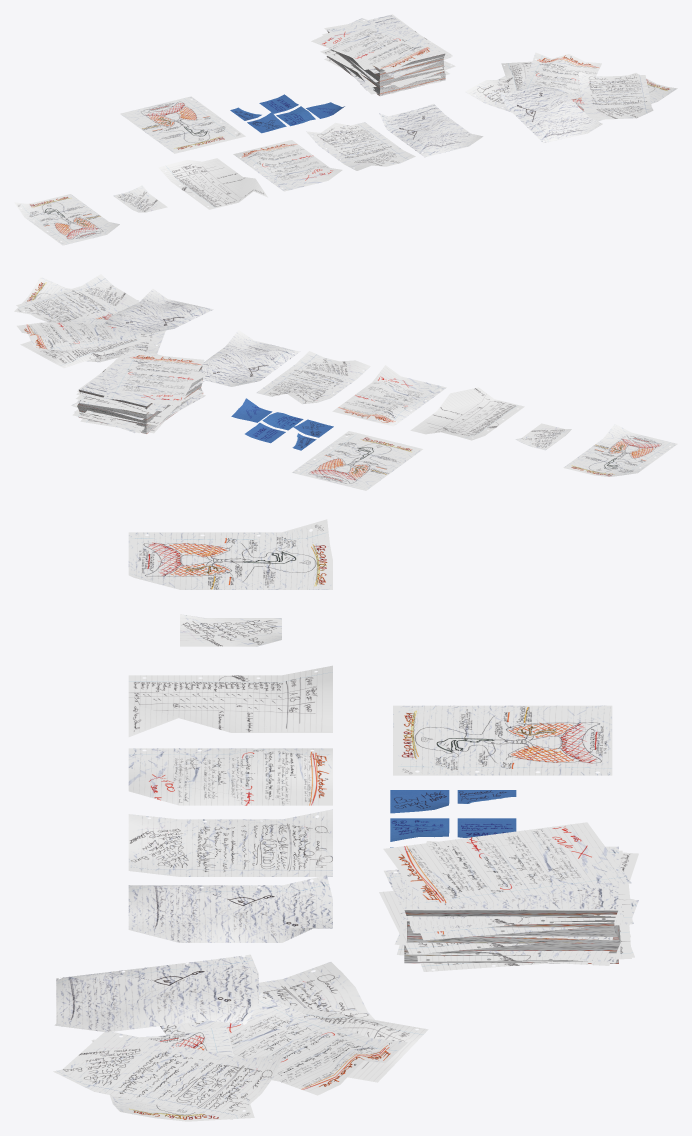
File: Papers.glb
3 views of the same model, one above another, from view 1: azimuth 30°, elevation 25°; view 2: azimuth 150°, elevation 25°; view 3: azimuth 270°, elevation 25° (orthographic). The views are drawn at different scales.
Parts seen in each view (by area): view 1: SM_PapersCluster, SM_PaperStack, SM_FlatPaper, SM_Papers_03, SM_Papers_05, SM_Papers_06, SM_Papers_04, SM_Papers_01, SM_Papers_02, SM_StickyNote_02, SM_StickyNote_03, SM_StickyNote_04 (+1 smaller); view 2: SM_PapersCluster, SM_PaperStack, SM_FlatPaper, SM_Papers_04, SM_Papers_03, SM_Papers_05, SM_Papers_01, SM_Papers_06, SM_Papers_02, SM_StickyNote_05, SM_StickyNote_04, SM_StickyNote_03 (+1 smaller); view 3: SM_PapersCluster, SM_PaperStack, SM_FlatPaper, SM_Papers_05, SM_Papers_01, SM_Papers_03, SM_Papers_04, SM_Papers_06, SM_Papers_02, SM_StickyNote_02, SM_StickyNote_03, SM_StickyNote_04.
Part boxes in pixels (bbox=[...]): SM_PapersCluster: bbox=[465, 52, 677, 143]; SM_PaperStack: bbox=[311, 14, 455, 95]; SM_FlatPaper: bbox=[120, 96, 245, 153]; SM_Papers_03: bbox=[158, 158, 267, 209]; SM_Papers_05: bbox=[306, 122, 415, 170]; SM_Papers_06: bbox=[379, 103, 483, 157]; SM_Papers_04: bbox=[233, 140, 342, 191]; SM_Papers_01: bbox=[14, 194, 119, 245]; SM_Papers_02: bbox=[113, 185, 167, 212]; SM_StickyNote_02: bbox=[247, 112, 286, 133]; SM_StickyNote_03: bbox=[276, 106, 315, 126]; SM_StickyNote_04: bbox=[259, 94, 298, 113]; SM_PapersCluster: bbox=[14, 274, 213, 368]; SM_PaperStack: bbox=[71, 349, 207, 433]; SM_FlatPaper: bbox=[292, 431, 422, 490]; SM_Papers_04: bbox=[332, 365, 446, 426]; SM_Papers_03: bbox=[410, 387, 524, 440]; SM_Papers_05: bbox=[256, 351, 370, 404]; SM_Papers_01: bbox=[563, 424, 677, 476]; SM_Papers_06: bbox=[201, 330, 299, 386]; SM_Papers_02: bbox=[515, 423, 571, 450]; SM_StickyNote_05: bbox=[231, 398, 272, 422]; SM_StickyNote_04: bbox=[245, 423, 285, 443]; SM_StickyNote_03: bbox=[262, 412, 303, 430]; SM_PapersCluster: bbox=[53, 954, 428, 1121]; SM_PaperStack: bbox=[379, 822, 638, 971]; SM_FlatPaper: bbox=[393, 705, 612, 775]; SM_Papers_05: bbox=[128, 809, 332, 876]; SM_Papers_01: bbox=[128, 519, 332, 589]; SM_Papers_03: bbox=[128, 665, 332, 736]; SM_Papers_04: bbox=[128, 748, 332, 805]; SM_Papers_06: bbox=[128, 875, 332, 942]; SM_Papers_02: bbox=[180, 614, 281, 646]; SM_StickyNote_02: bbox=[390, 790, 449, 813]; SM_StickyNote_03: bbox=[390, 818, 449, 841]; SM_StickyNote_04: bbox=[457, 818, 516, 837].
Size of the model in its own units: 1.8 by 0.0971 by 0.7454.
1 material, 1 textured.
